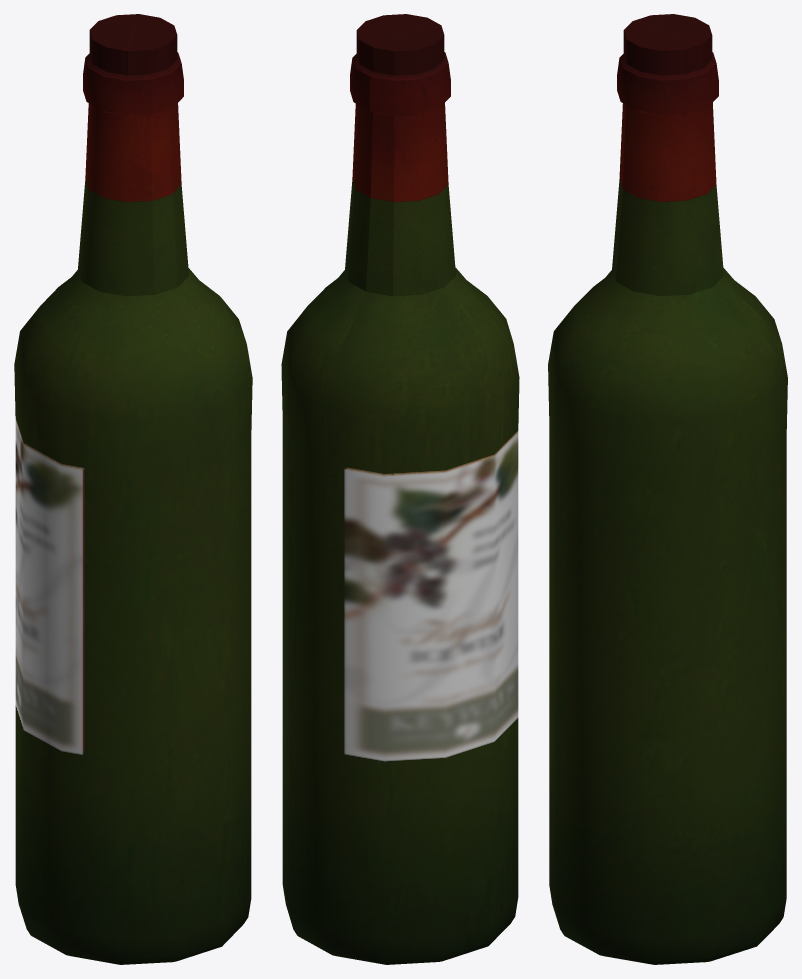
File: Bottle 1.FBX
The picture shows the model from 3 angles, left to right: view 1: azimuth 30°, elevation 25°; view 2: azimuth 150°, elevation 25°; view 3: azimuth 270°, elevation 25°; orthographic projection.
Visible parts, largest first — view 1: Bottle 1; view 2: Bottle 1; view 3: Bottle 1.
Boxes of the visible parts, x1,y1,x2,y2 form: Bottle 1: [14, 14, 252, 964]; Bottle 1: [281, 14, 519, 964]; Bottle 1: [548, 14, 787, 964].
Size of the model in its own units: 17.36 by 71.66 by 17.52.
1 material, 1 textured.
